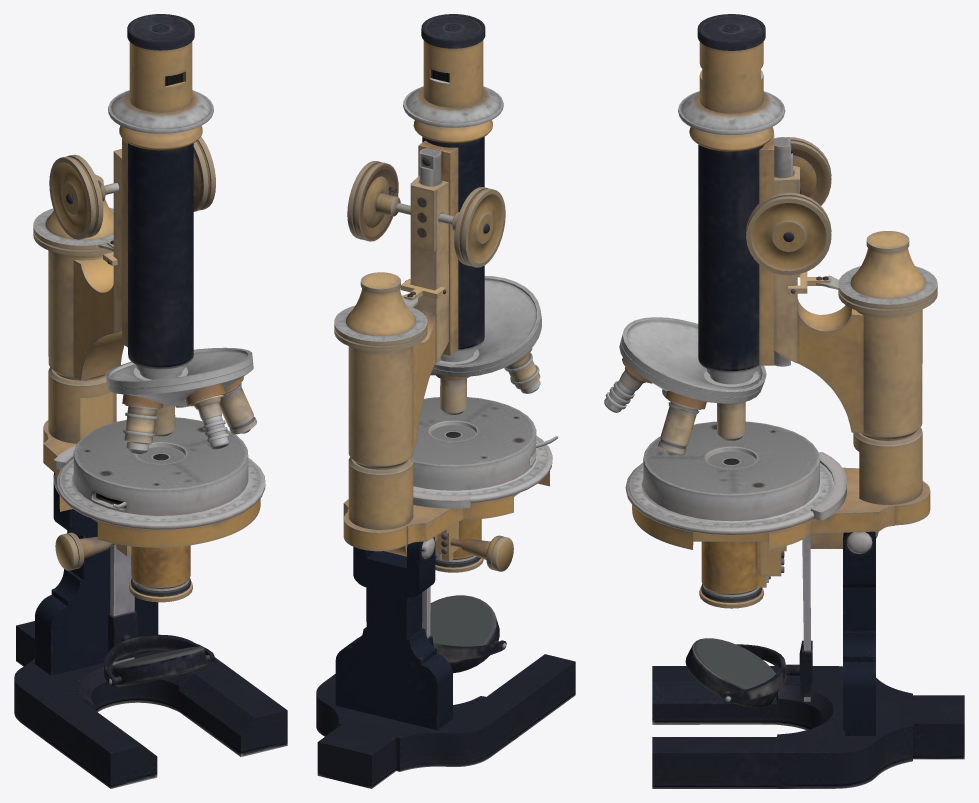
File: vintage_microscope_2k.gltf
The picture shows the model from 3 angles, left to right: view 1: azimuth 30°, elevation 25°; view 2: azimuth 150°, elevation 25°; view 3: azimuth 270°, elevation 25°; orthographic projection. The views are drawn at different scales.
Parts seen in each view (by area): view 1: vintage_microscope_rack_mount_support, vintage_microscope_eye_piece, vintage_microscope_base, vintage_microscope_revolver, vintage_microscope_adjustment, vintage_microscope_mirror_arm, vintage_microscope_condenser, vintage_microscope_mirror_base; view 2: vintage_microscope_rack_mount_support, vintage_microscope_base, vintage_microscope_eye_piece, vintage_microscope_adjustment, vintage_microscope_mirror_base, vintage_microscope_revolver, vintage_microscope_condenser, vintage_microscope_mirror_arm; view 3: vintage_microscope_rack_mount_support, vintage_microscope_base, vintage_microscope_eye_piece, vintage_microscope_adjustment, vintage_microscope_revolver, vintage_microscope_condenser, vintage_microscope_mirror_base, vintage_microscope_mirror_arm.
Boxes of the visible parts, x1,y1,x2,y2 form: vintage_microscope_rack_mount_support: [33, 149, 265, 570]; vintage_microscope_eye_piece: [105, 14, 252, 388]; vintage_microscope_base: [14, 473, 287, 788]; vintage_microscope_revolver: [107, 362, 256, 453]; vintage_microscope_adjustment: [49, 136, 215, 239]; vintage_microscope_mirror_arm: [104, 544, 214, 685]; vintage_microscope_condenser: [129, 446, 192, 602]; vintage_microscope_mirror_base: [111, 646, 207, 686]; vintage_microscope_rack_mount_support: [334, 176, 558, 571]; vintage_microscope_base: [316, 537, 575, 788]; vintage_microscope_eye_piece: [403, 14, 541, 371]; vintage_microscope_adjustment: [347, 161, 505, 267]; vintage_microscope_mirror_base: [430, 595, 499, 673]; vintage_microscope_revolver: [430, 316, 541, 414]; vintage_microscope_condenser: [430, 425, 483, 572]; vintage_microscope_mirror_arm: [422, 586, 506, 659]; vintage_microscope_rack_mount_support: [625, 166, 937, 576]; vintage_microscope_base: [652, 531, 964, 788]; vintage_microscope_eye_piece: [621, 14, 793, 397]; vintage_microscope_adjustment: [746, 137, 831, 275]; vintage_microscope_revolver: [604, 337, 762, 455]; vintage_microscope_condenser: [699, 451, 770, 608]; vintage_microscope_mirror_base: [685, 638, 778, 707]; vintage_microscope_mirror_arm: [723, 534, 812, 702].
Size of the model in its own units: 0.1068 by 0.3996 by 0.1819.
2 materials, 2 textured.
